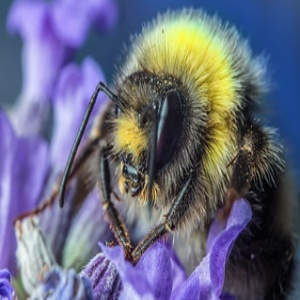bee: (56, 6, 298, 266)
